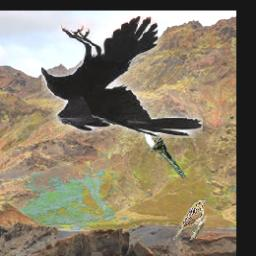Crow: (41, 17, 203, 139)
Cuckoo: (138, 120, 186, 179)
Sparrow: (173, 199, 207, 241)
